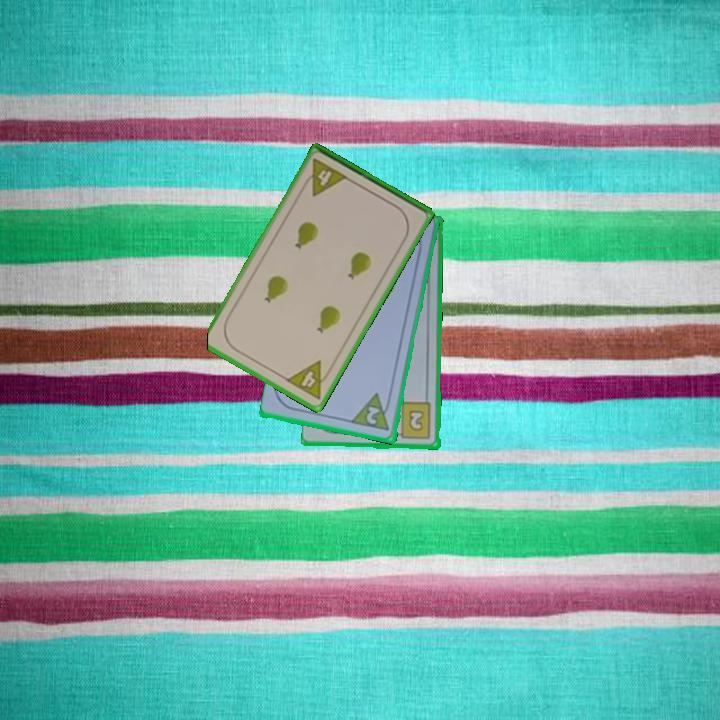2b: (392, 400, 434, 442)
2p: (363, 403, 383, 428)
4p: (282, 357, 335, 403), (298, 155, 350, 199)
